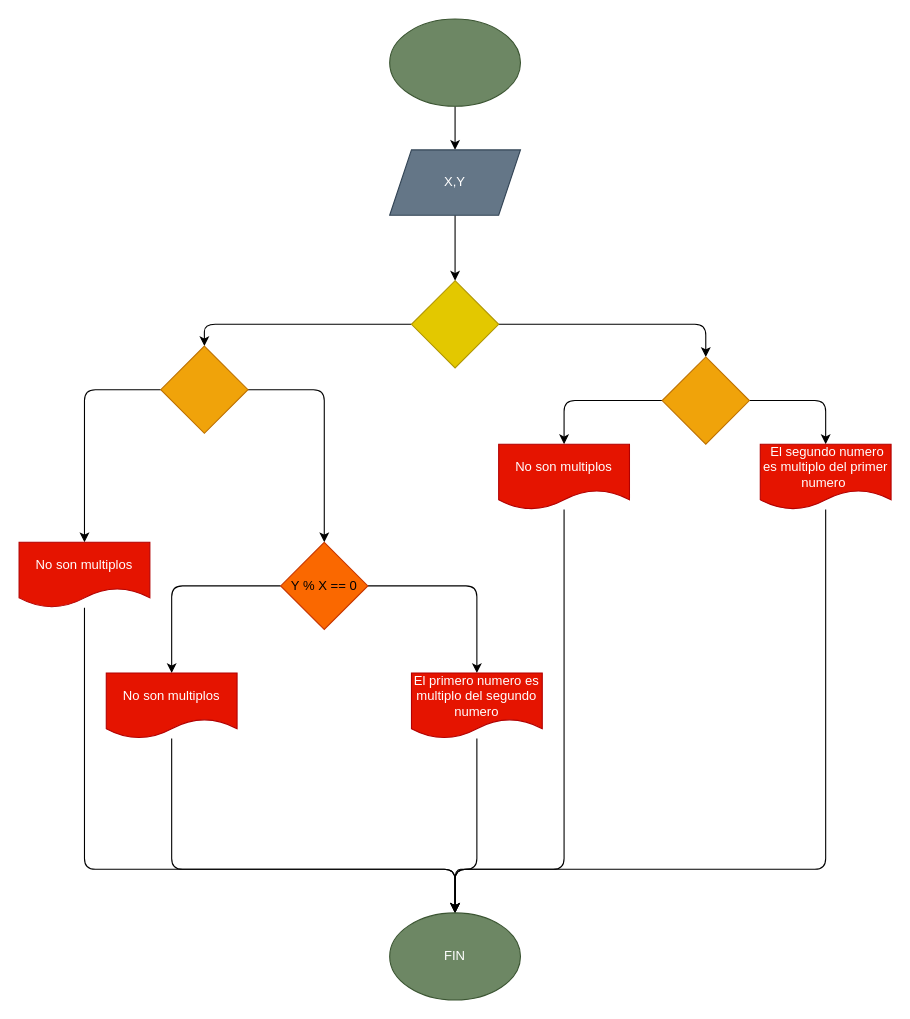
Some shapes in this 910 by 1019 pixel diagram are drawn without their labels. Each missing label, with the centre of its shape:
"INICIO" belongs at (x=454, y=62).
"Si X <= Y" belongs at (x=204, y=389).
"Si X >= Y" belongs at (x=454, y=324).
"X % Y == 0" belongs at (x=705, y=400).
